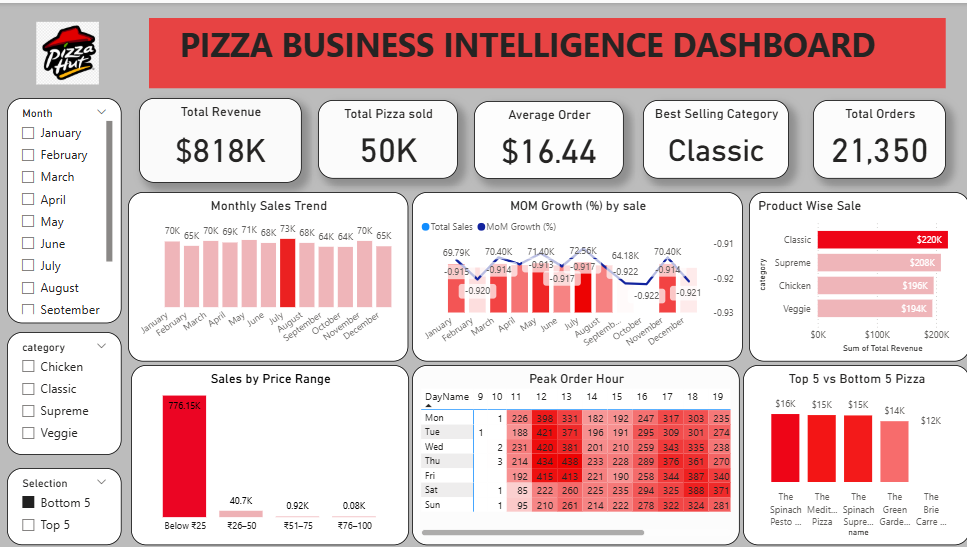

The page's visual inventory and layout, read from the dashboard file:
{"tool":"powerbi","page":{"name":"Page 1","canvas":[1280,720],"ordinal":0},"visuals":[{"type":"textbox","box":[205.9,20.2,1042.6,92.2],"z":0},{"type":"card","title":"Total Revenue","fields":{"Values":["Sum(order_details.Total Revenue)"]},"box":[193,123.8,213.1,110.9],"z":1000},{"type":"card","title":"Total Pizza sold","fields":{"Values":["order_details.Total Pizzas Sold"]},"box":[426.6,127.6,182.8,103.5],"z":2000},{"type":"card","title":"Average Order","fields":{"Values":["order_details.Avg Order Value"]},"box":[630.7,128.2,195.8,102.2],"z":3000},{"type":"card","title":"Best Selling Category","fields":{"Values":["Min(pizza_types.category)"]},"box":[851.8,127.6,191.3,103.5],"z":4000},{"type":"card","title":"Total Orders","fields":{"Values":["Count(orders.order_id)"]},"box":[1074.3,127.6,174.3,103.5],"z":5000},{"type":"clusteredBarChart","title":"Product Wise Sale","fields":{"Category":["pizza_types.category"],"Y":["Sum(order_details.Total Revenue)"]},"box":[990.7,247.7,289.4,221.8],"z":6000},{"type":"lineStackedColumnComboChart","title":" MOM Growth (%) by sale","fields":{"Category":["orders.date.Variation.Date Hierarchy.Month"],"Y":["order_details.Total Sales"],"Y2":["orders.MoM Growth (%)"]},"box":[550.1,247.7,433.4,221.8],"z":7000},{"type":"pivotTable","title":"Peak Order Hour","fields":{"Rows":["orders.DayName"],"Values":["orders.Total Orders"],"Columns":["orders.Hour"]},"box":[550.1,473.8,429.1,236.2],"z":8000},{"type":"columnChart","title":"Top 5 vs Bottom 5 Pizza","fields":{"Category":["pizza_types.name"],"Y":["Sum(order_details.Total Revenue)"]},"box":[983.5,473.8,296.6,236.2],"z":9000},{"type":"columnChart","title":"Monthly Sales Trend","fields":{"Y":["order_details.Total Sales"],"Category":["orders.date.Variation.Date Hierarchy.Month"]},"box":[178.6,247.7,367.2,221.8],"z":10000},{"type":"columnChart","title":" Sales by Price Range","fields":{"Category":["order_details.Price Range"],"Y":["order_details.Total Sales"]},"box":[181.4,473.8,364.3,236.2],"z":11000},{"type":"slicer","fields":{"Values":["TopBottomParameter.Selection"]},"box":[20.2,609.1,149.8,100.8],"z":12000},{"type":"slicer","fields":{"Values":["orders.date.Variation.Date Hierarchy.Month"]},"box":[20.2,123.8,149.8,295.2],"z":13000},{"type":"image","box":[37.4,20.2,122.4,92.2],"z":15000},{"type":"slicer","fields":{"Values":["pizza_types.category"]},"box":[20.2,430.6,149.8,161.3],"z":16000}]}

Visuals, with their boxes in screenshot pixels (x1, y1, x2, y2), scaled from the page's 1280x720 canvas onto the 967x547 screenshot:
textbox: x1=156 y1=15 x2=943 y2=85
"Total Revenue" card: x1=146 y1=94 x2=307 y2=178
"Total Pizza sold" card: x1=322 y1=97 x2=460 y2=176
"Average Order" card: x1=476 y1=97 x2=624 y2=175
"Best Selling Category" card: x1=644 y1=97 x2=788 y2=176
"Total Orders" card: x1=812 y1=97 x2=943 y2=176
"Product Wise Sale" clusteredBarChart: x1=748 y1=188 x2=966 y2=357
" MOM Growth (%) by sale" lineStackedColumnComboChart: x1=416 y1=188 x2=743 y2=357
"Peak Order Hour" pivotTable: x1=416 y1=360 x2=740 y2=539
"Top 5 vs Bottom 5 Pizza" columnChart: x1=743 y1=360 x2=966 y2=539
"Monthly Sales Trend" columnChart: x1=135 y1=188 x2=412 y2=357
" Sales by Price Range" columnChart: x1=137 y1=360 x2=412 y2=539
slicer - TopBottomParameter.Selection: x1=15 y1=463 x2=128 y2=539
slicer - orders.date.Variation.Date Hierarchy.Month: x1=15 y1=94 x2=128 y2=318
image: x1=28 y1=15 x2=121 y2=85
slicer - pizza_types.category: x1=15 y1=327 x2=128 y2=450
